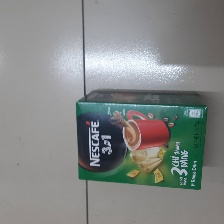Nes Rang: (76, 90, 209, 191)
